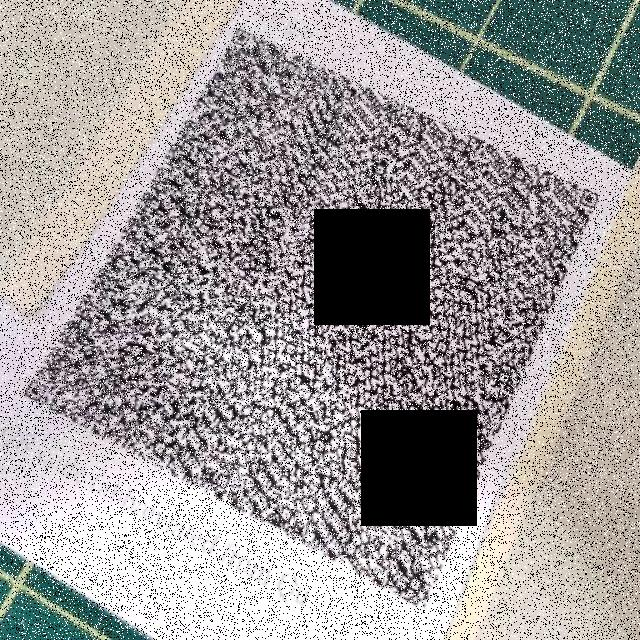QR_CODE: (12, 12, 618, 622)
